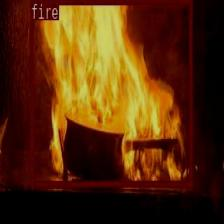fire: (30, 0, 192, 187)
